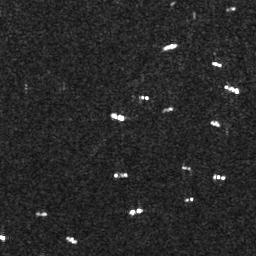ship: (224, 83, 239, 95), (112, 169, 128, 180), (161, 42, 178, 51), (111, 112, 125, 121), (65, 235, 77, 245), (212, 172, 225, 181), (130, 207, 143, 215), (211, 60, 223, 68), (36, 211, 48, 217), (138, 95, 150, 101), (185, 195, 194, 203), (164, 106, 174, 113), (211, 120, 220, 127), (181, 165, 191, 171)
